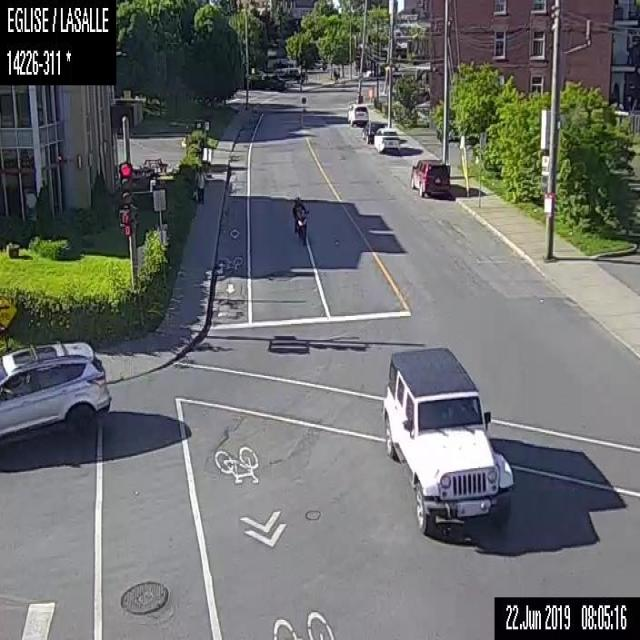pedestrian: (190, 162, 210, 206)
vehicle: (381, 344, 515, 532), (0, 336, 111, 447), (407, 154, 450, 198), (291, 193, 311, 248), (361, 117, 387, 146), (374, 128, 400, 152), (346, 102, 369, 126)
